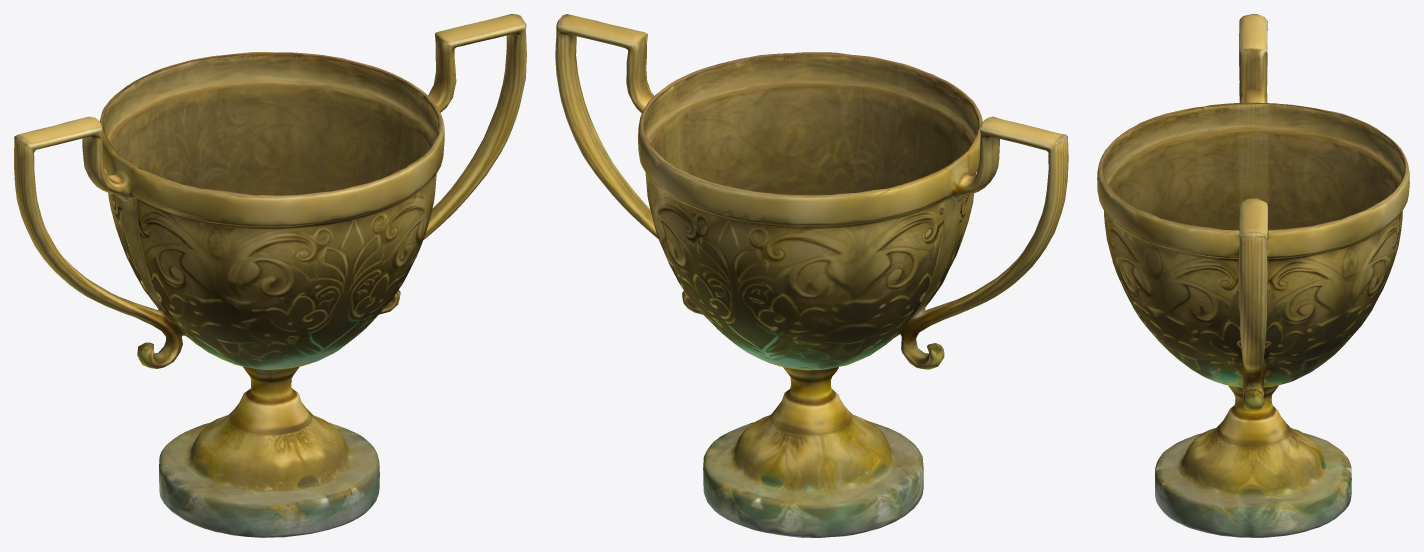
Rendered from trophy-3d.glb.
The picture shows the model from 3 angles, left to right: view 1: azimuth 30°, elevation 25°; view 2: azimuth 150°, elevation 25°; view 3: azimuth 270°, elevation 25°; orthographic projection. The views are drawn at different scales.
Bounding box in the file's own units: 2.01 × 1.58 × 1.2.
1 material, 1 textured.
